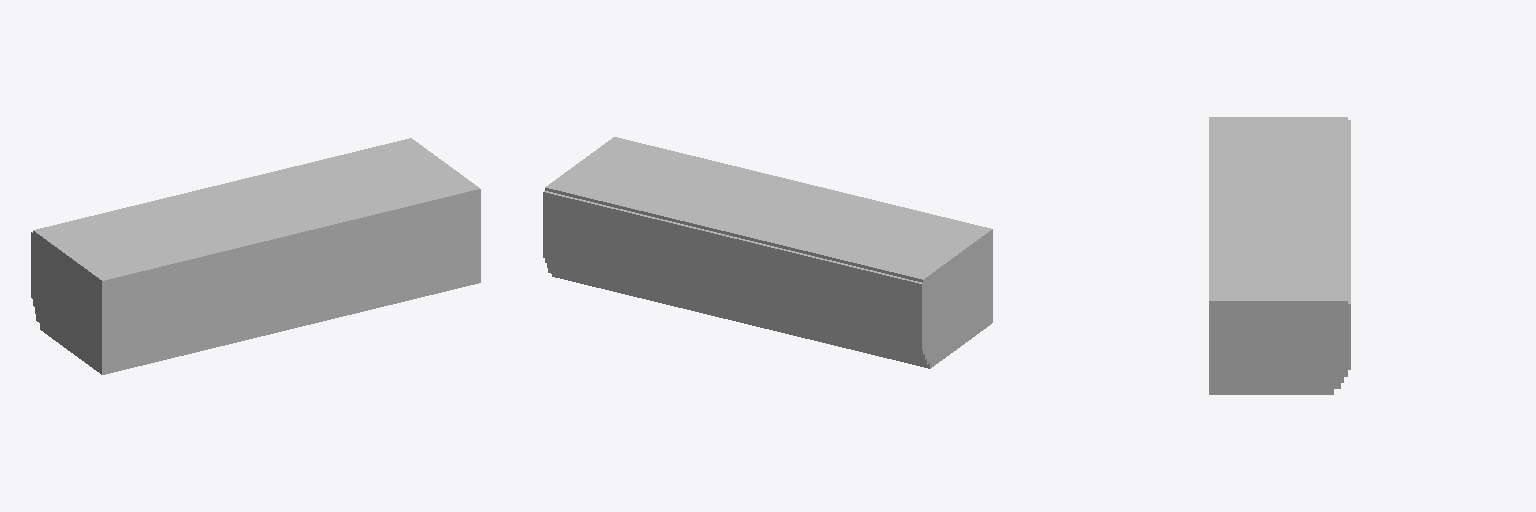
Rendered from Dop-9.obj.
The picture shows the model from 3 angles: view 1: azimuth 30°, elevation 25°; view 2: azimuth 150°, elevation 25°; view 3: azimuth 270°, elevation 25°; orthographic projection.
Visible parts, largest first — view 1: Dop-9; view 2: Dop-9; view 3: Dop-9.
Boxes of the visible parts, x1,y1,x2,y2 form: Dop-9: [31, 138, 480, 374]; Dop-9: [543, 137, 992, 368]; Dop-9: [1209, 117, 1350, 394].
Size of the model in its own units: 126 by 30 by 41.